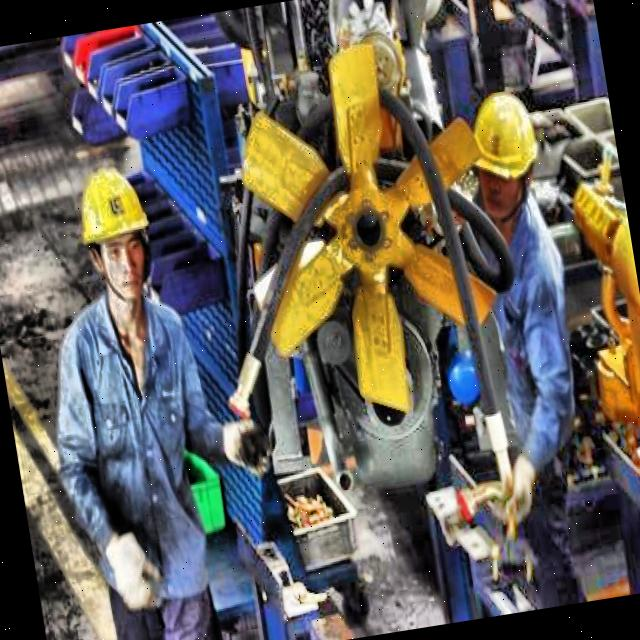helmet: (461, 76, 561, 236), (68, 156, 165, 318)
